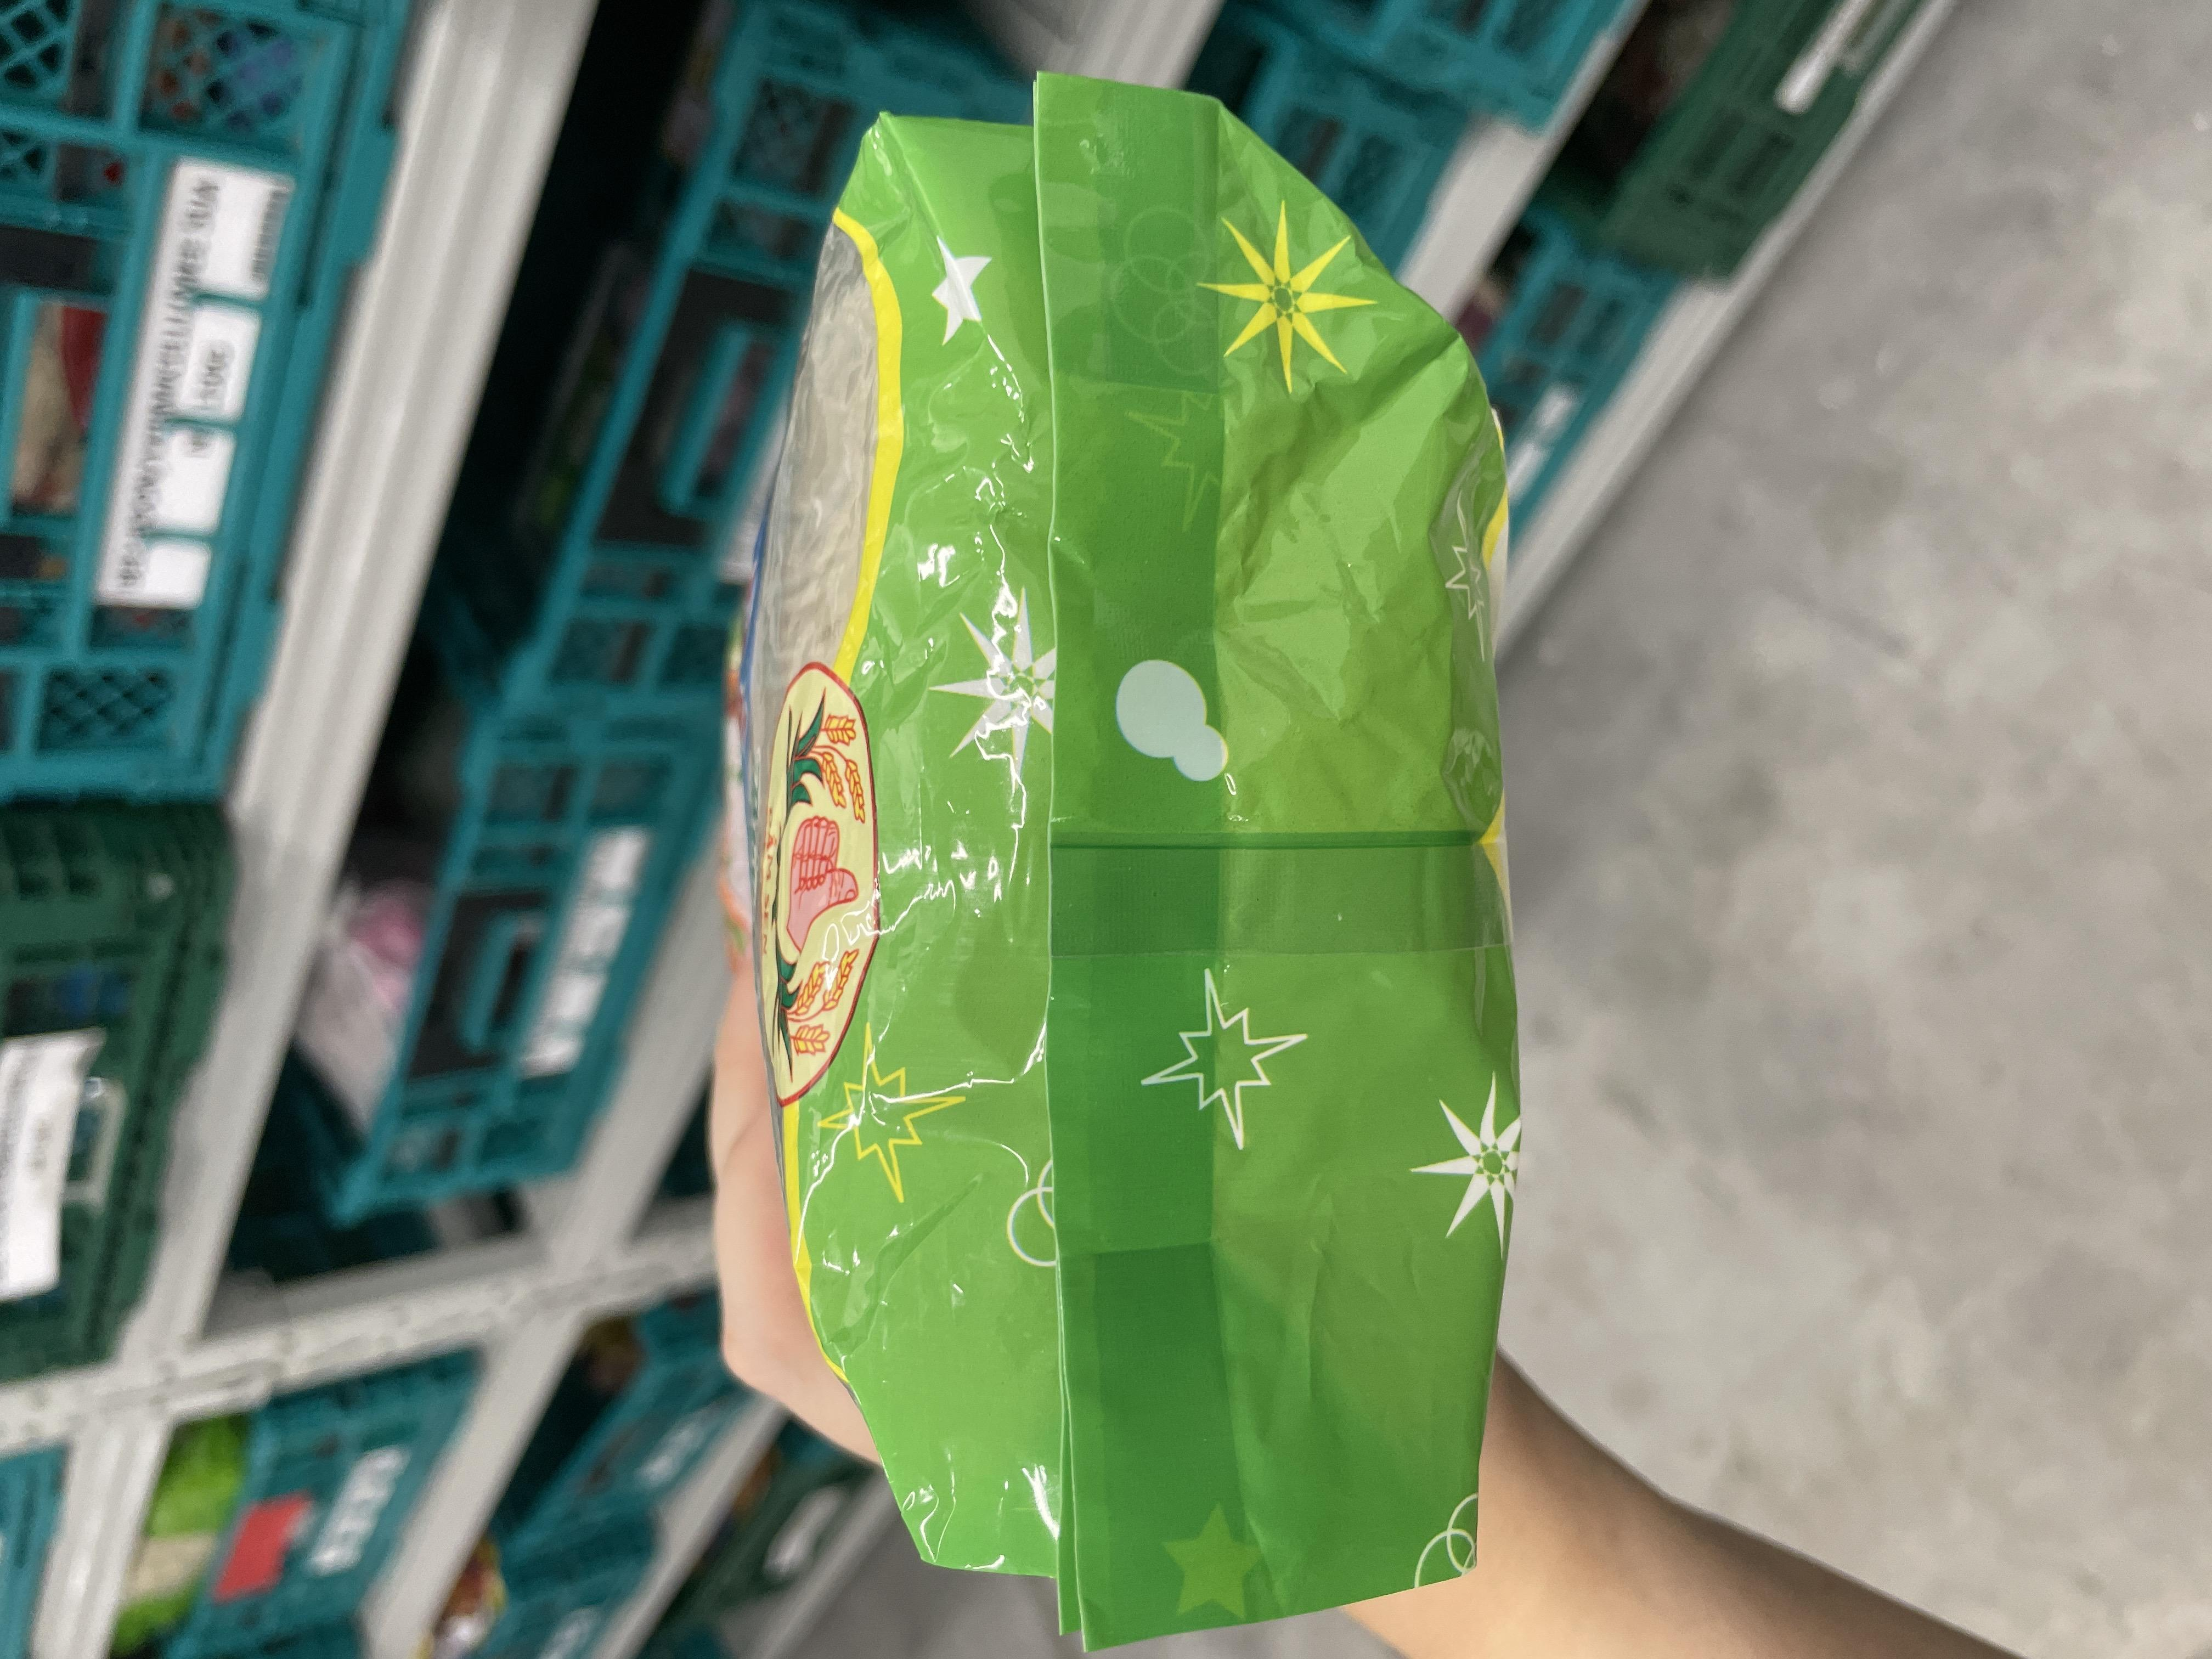object_name: (132, 835, 1437, 1438)
